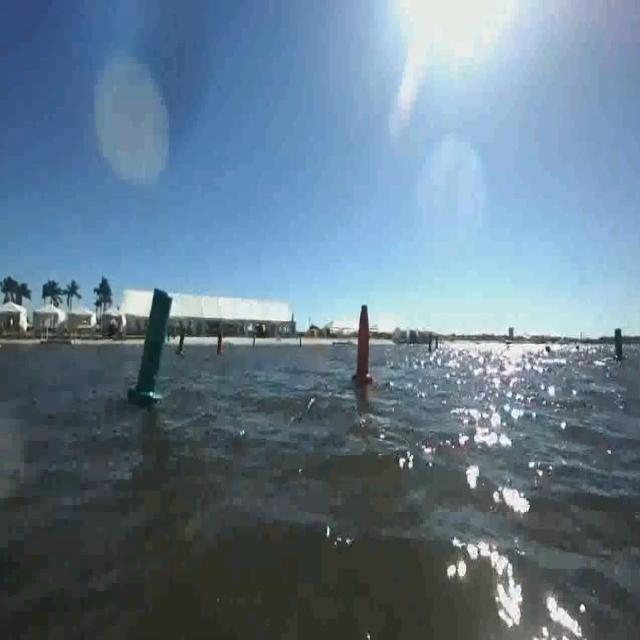green-column-buoy: (129, 288, 173, 408), (614, 328, 628, 363), (176, 328, 188, 357)
red-column-buoy: (352, 302, 373, 386), (216, 331, 225, 357)
